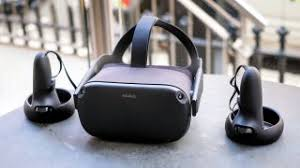oculus: (74, 43, 210, 148)
